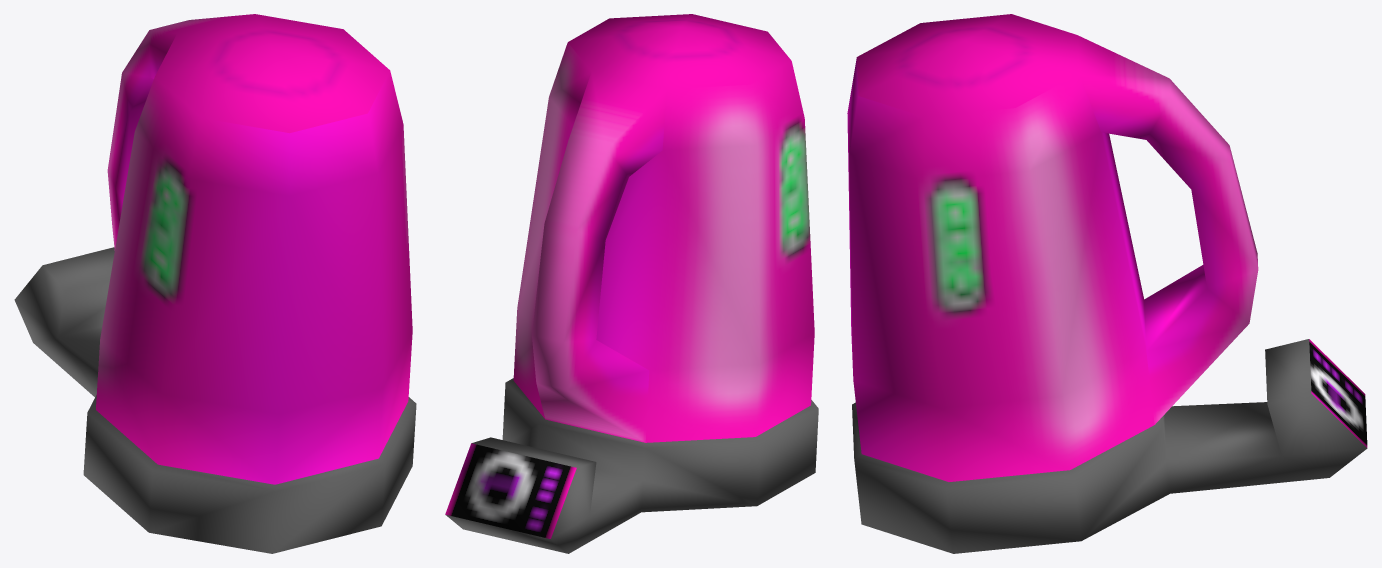
File: ZombieScannerMK2_ground.FBX
The picture shows the model from 3 angles, left to right: view 1: azimuth 30°, elevation 25°; view 2: azimuth 150°, elevation 25°; view 3: azimuth 270°, elevation 25°; orthographic projection. The views are drawn at different scales.
Parts seen in each view (by area): view 1: FlashLight; view 2: FlashLight; view 3: FlashLight.
Part boxes in pixels (bbox=[...]): FlashLight: bbox=[14, 14, 416, 553]; FlashLight: bbox=[445, 14, 818, 553]; FlashLight: bbox=[847, 14, 1367, 553].
Bounding box in the file's own units: 0.0981 × 0.1578 × 0.1631.
